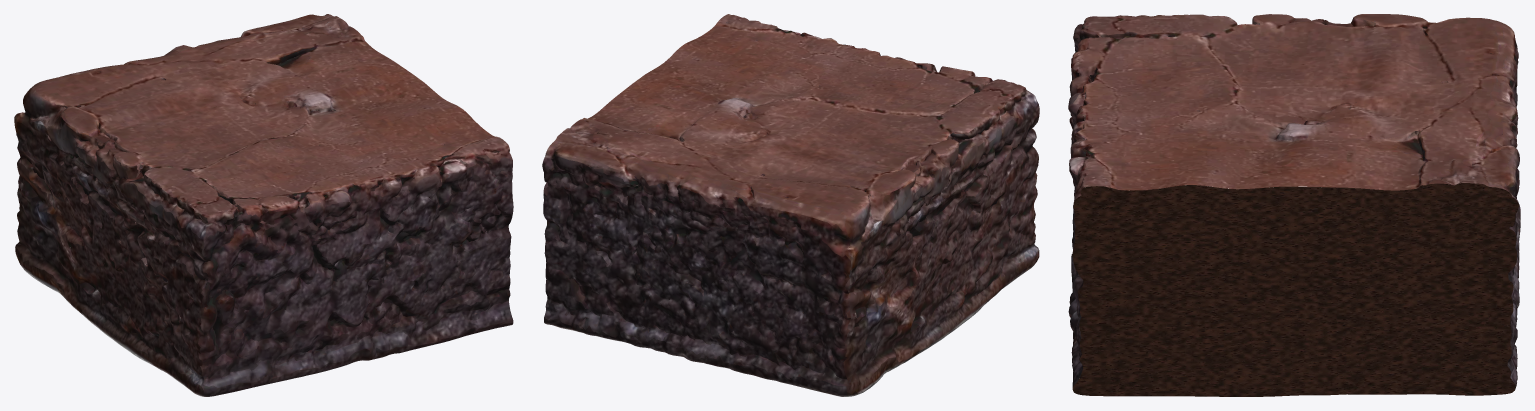
The picture shows the model from 3 angles, left to right: view 1: azimuth 30°, elevation 25°; view 2: azimuth 150°, elevation 25°; view 3: azimuth 270°, elevation 25°; orthographic projection. The views are drawn at different scales.
Visible parts, largest first — view 1: brownie-physical-calibration-80x35x65mm; view 2: brownie-physical-calibration-80x35x65mm; view 3: brownie-physical-calibration-80x35x65mm.
Boxes of the visible parts, box(x1,y1,x2,y2) form: brownie-physical-calibration-80x35x65mm: box(14, 14, 513, 396); brownie-physical-calibration-80x35x65mm: box(542, 14, 1039, 396); brownie-physical-calibration-80x35x65mm: box(1068, 14, 1520, 396).
Size of the model in its own units: 0.06 by 0.035 by 0.065.
2 materials, 2 textured.
